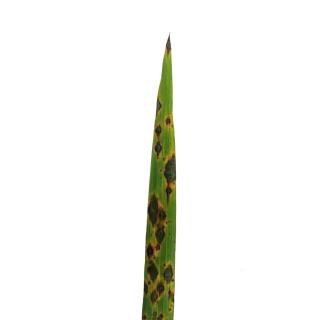Blast: (164, 153, 175, 203), (147, 192, 159, 225), (155, 122, 162, 162), (153, 224, 165, 247), (146, 261, 158, 281), (164, 262, 174, 284), (148, 289, 158, 306), (156, 208, 166, 225), (146, 240, 154, 260), (156, 280, 164, 297), (143, 281, 151, 296), (167, 288, 174, 305), (156, 97, 161, 117), (156, 312, 165, 320), (166, 116, 172, 126), (155, 244, 161, 251)
